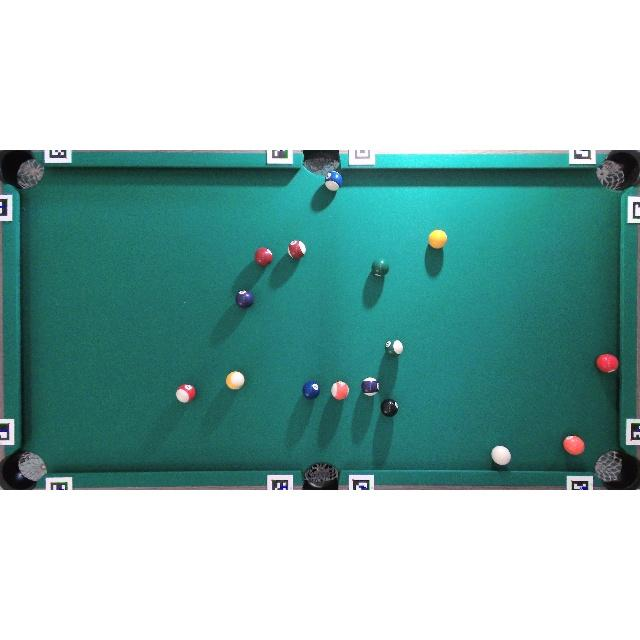cue ball: (491, 446, 511, 465)
other: (563, 436, 585, 456), (596, 354, 618, 373), (428, 229, 448, 249), (254, 247, 274, 266), (176, 384, 196, 403), (324, 171, 342, 191), (361, 377, 379, 397), (226, 371, 244, 390), (302, 380, 320, 399), (331, 381, 349, 400), (288, 240, 306, 258), (236, 290, 253, 308), (381, 398, 398, 416), (385, 339, 403, 355), (372, 260, 389, 276)
